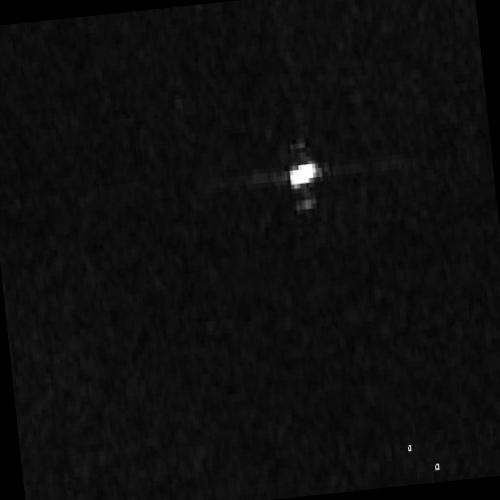ship: (288, 160, 318, 187)
